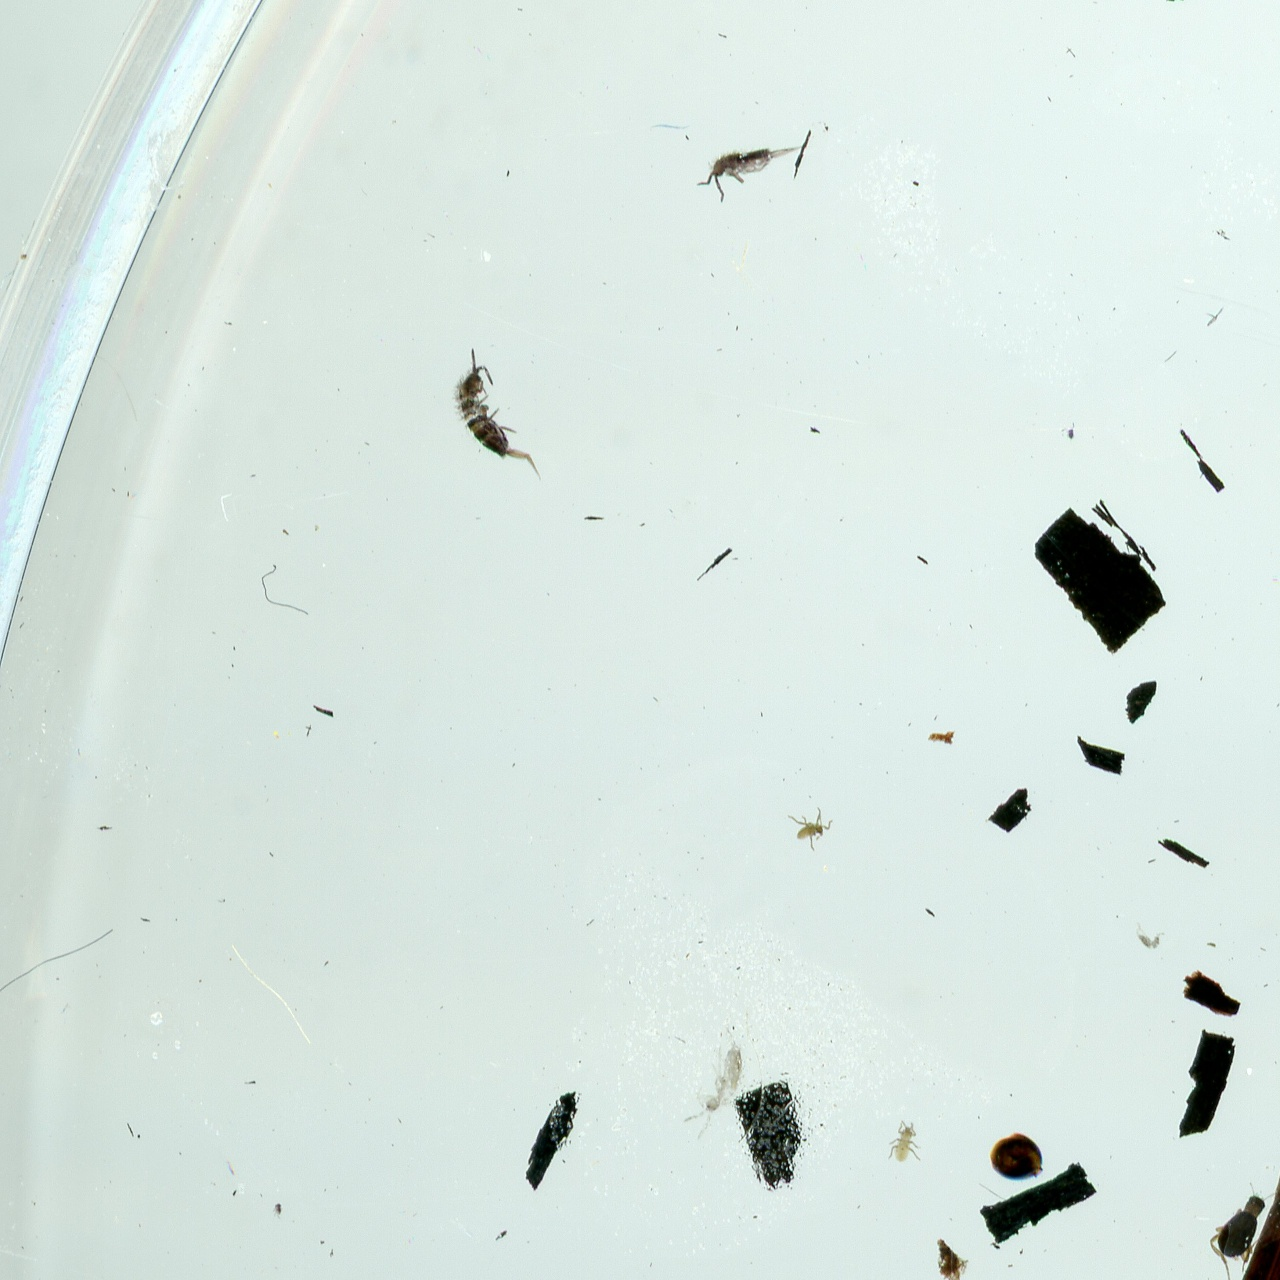arthropod: (431, 342, 547, 504), (672, 1019, 767, 1150), (1196, 1172, 1280, 1280), (690, 136, 810, 210), (988, 1130, 1048, 1184), (787, 806, 835, 852), (887, 1121, 921, 1164), (1135, 919, 1166, 953)
